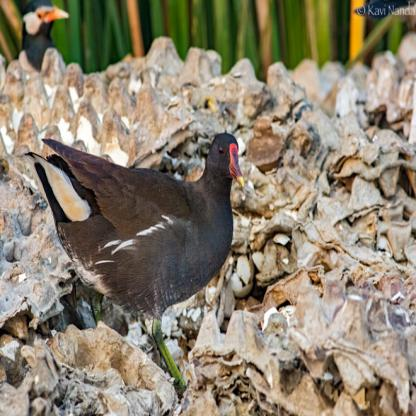Burung: (24, 131, 244, 385)
